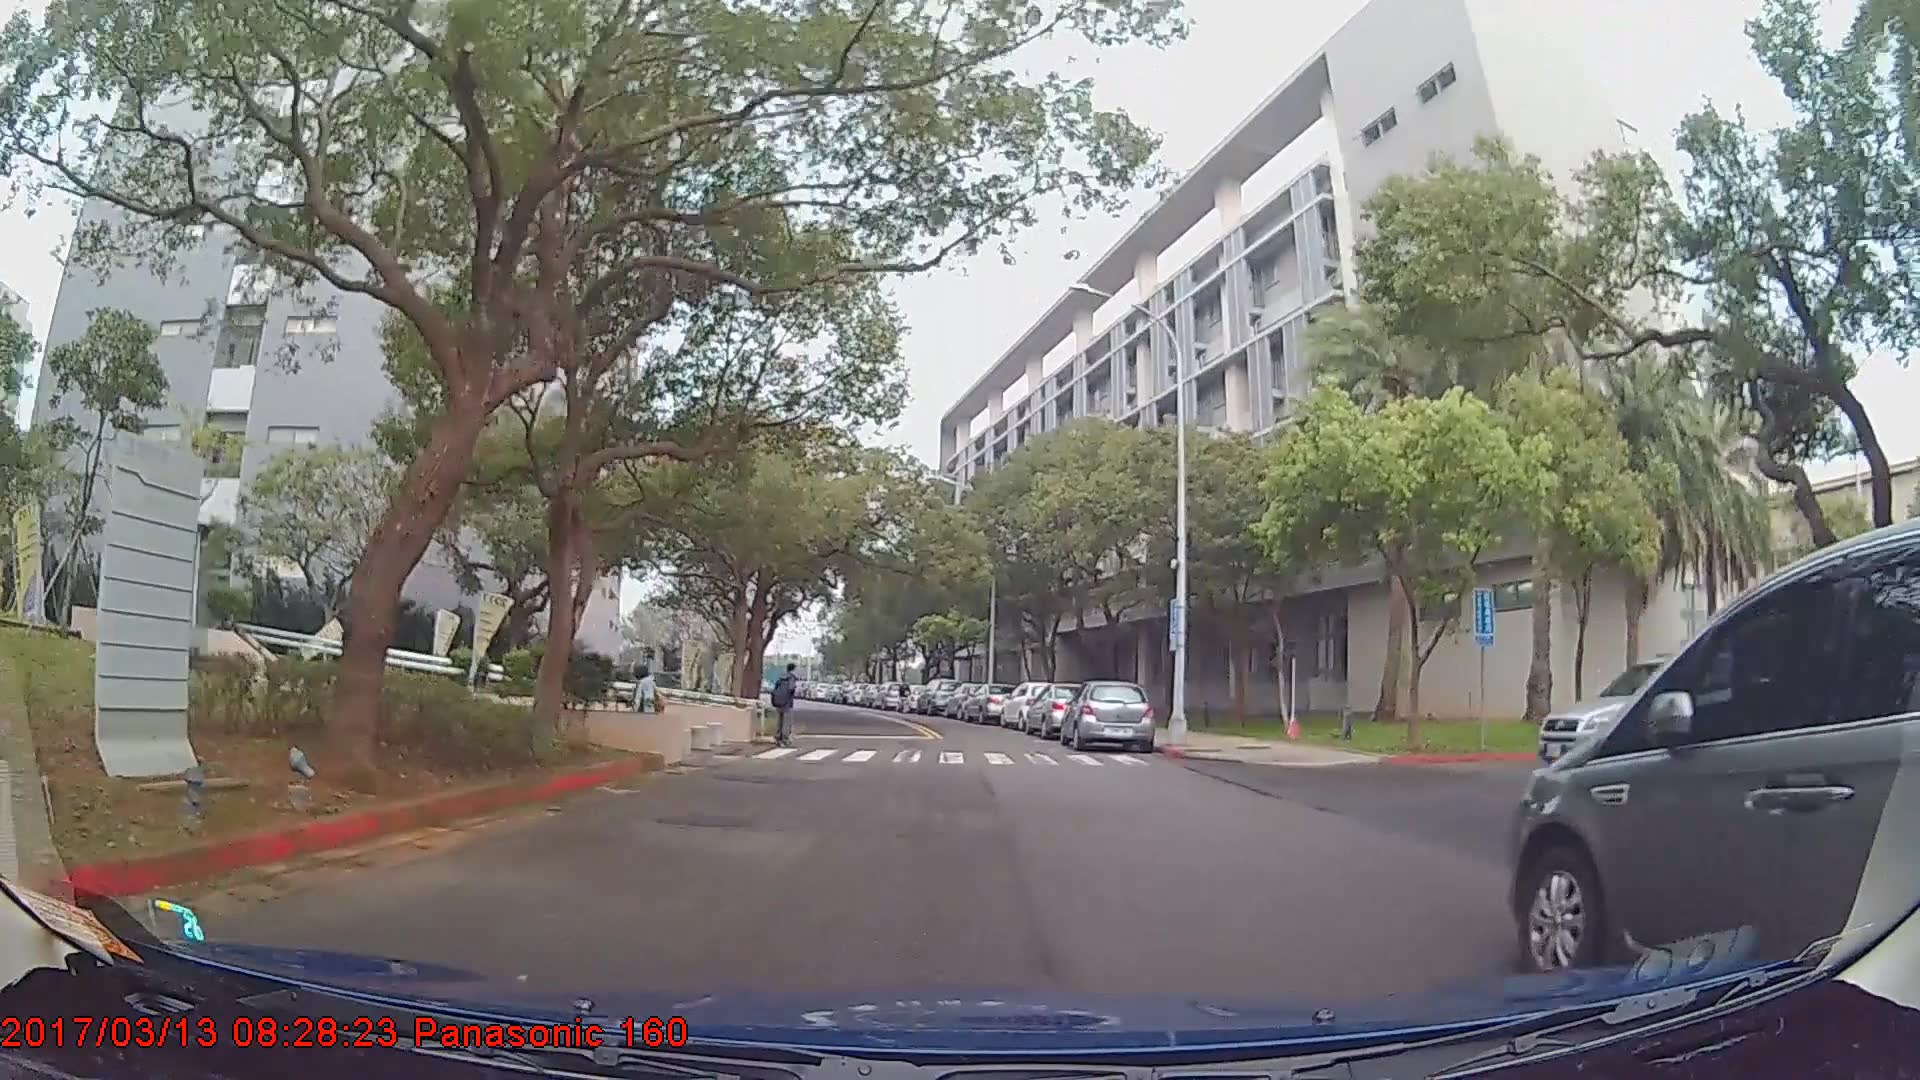pedestrian: (622, 668, 669, 755), (770, 662, 802, 752)
vehicle: (1511, 522, 1920, 989), (1060, 679, 1153, 754), (1020, 680, 1107, 737), (996, 678, 1068, 735), (961, 681, 1012, 721), (916, 678, 960, 715)
